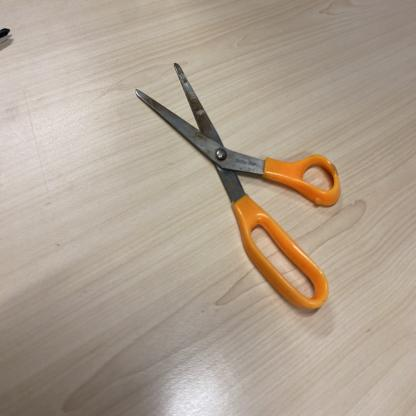scissors: (134, 63, 342, 313)
